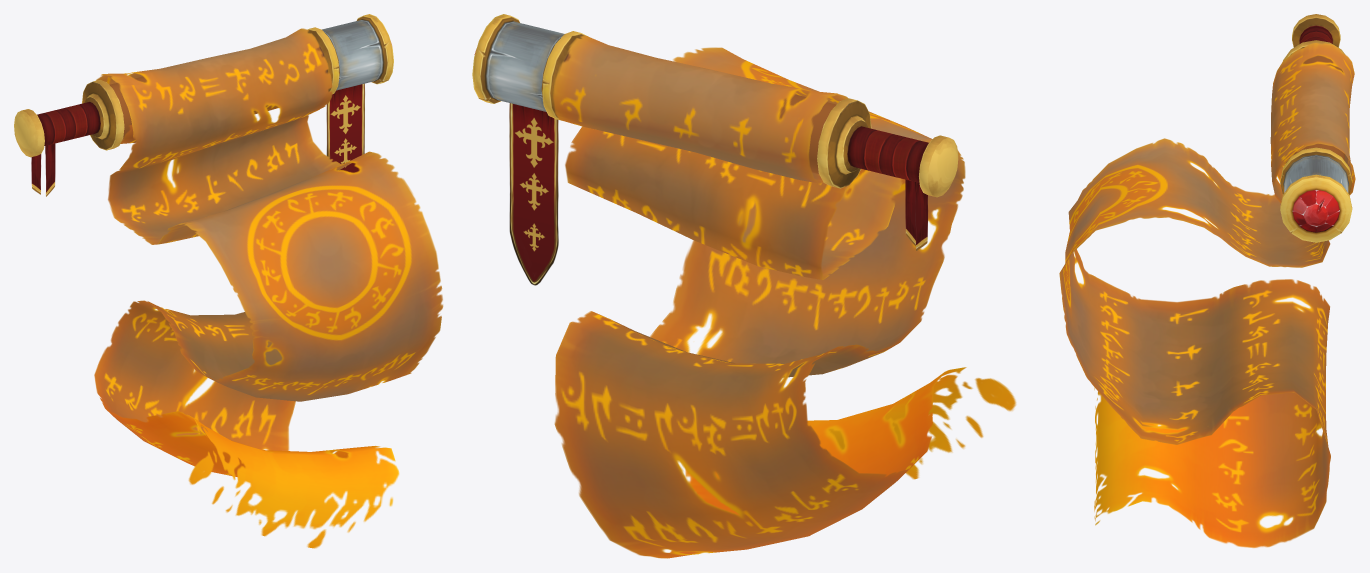
File: scroll_of_smiting.glb
3 views of the same model, side by side, from view 1: azimuth 30°, elevation 25°; view 2: azimuth 150°, elevation 25°; view 3: azimuth 270°, elevation 25° (orthographic). The views are drawn at different scales.
Visible parts, largest first — view 1: Object_2; view 2: Object_2; view 3: Object_2.
Part boxes in pixels (x1=…): Object_2: x1=14, y1=14, x2=443, y2=548; Object_2: x1=472, y1=14, x2=1016, y2=558; Object_2: x1=1059, y1=14, x2=1355, y2=547.
Size of the model in its own units: 1.62 by 1.84 by 1.11.
1 material, 1 textured.
